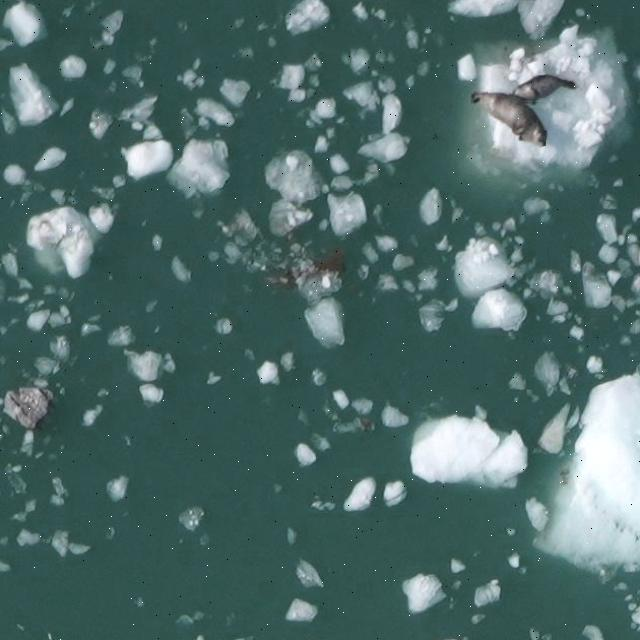seal: (463, 76, 560, 153), (508, 66, 580, 109)
